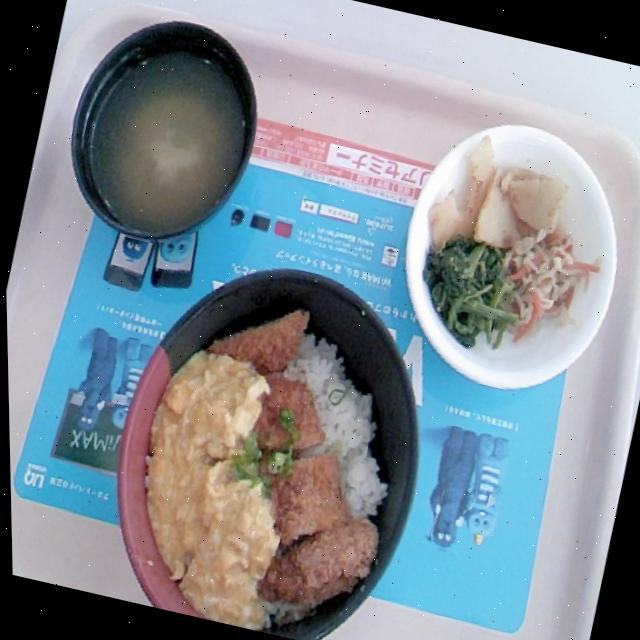汤锅炖物: (19, 0, 274, 260)
